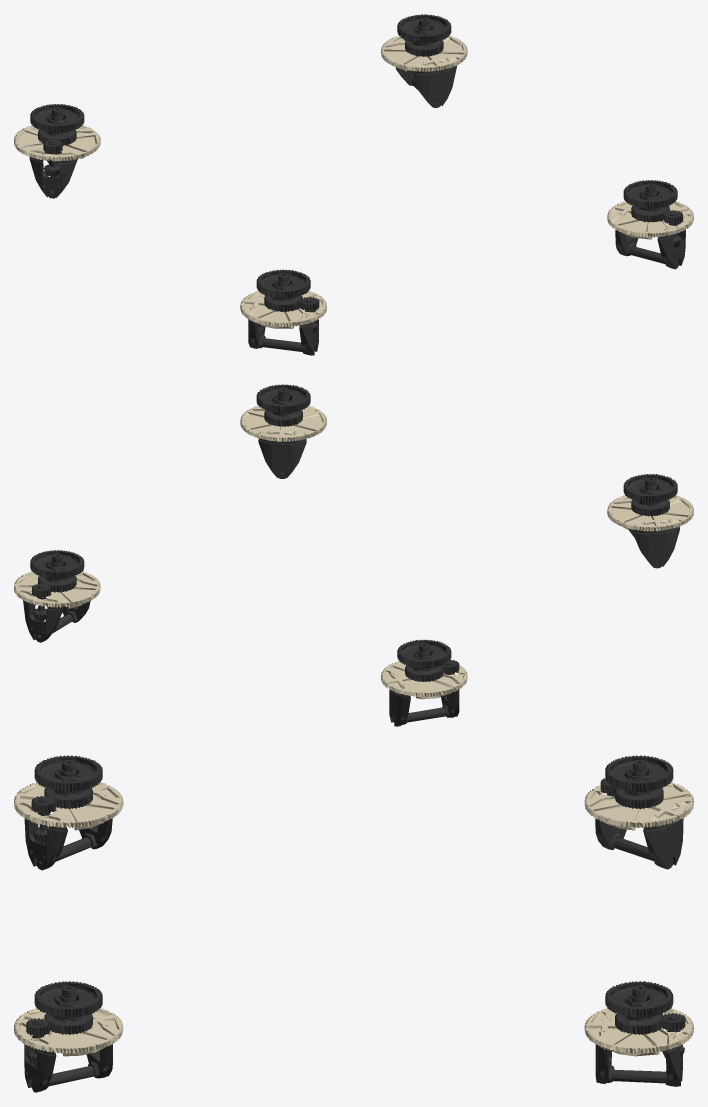
File: 581-steer.glb
The picture shows the model from 3 angles, top to bottom: view 1: azimuth 30°, elevation 25°; view 2: azimuth 150°, elevation 25°; view 3: azimuth 270°, elevation 25°; orthographic projection. The views are drawn at different scales.
Parts seen in each view (by area): view 1: WCP Swerve X2 (Standard Wheel Fork Kit) (WCP-1708-002), WCP Swerve X2 (88t Rotation Gear) (WCP-1712); view 2: WCP Swerve X2 (Standard Wheel Fork Kit) (WCP-1708-002), WCP Swerve X2 (88t Rotation Gear) (WCP-1712); view 3: WCP Swerve X2 (Standard Wheel Fork Kit) (WCP-1708-002), WCP Swerve X2 (88t Rotation Gear) (WCP-1712).
Part boxes in pixels (left/top/right/bottom): WCP Swerve X2 (Standard Wheel Fork Kit) (WCP-1708-002): left=29, top=14, right=685, bottom=355; WCP Swerve X2 (88t Rotation Gear) (WCP-1712): left=14, top=35, right=693, bottom=328; WCP Swerve X2 (Standard Wheel Fork Kit) (WCP-1708-002): left=23, top=384, right=679, bottom=726; WCP Swerve X2 (88t Rotation Gear) (WCP-1712): left=14, top=406, right=693, bottom=699; WCP Swerve X2 (Standard Wheel Fork Kit) (WCP-1708-002): left=24, top=755, right=685, bottom=1092; WCP Swerve X2 (88t Rotation Gear) (WCP-1712): left=14, top=782, right=693, bottom=1056.
Size of the model in its own units: 0.6731 by 0.1111 by 0.7112.
